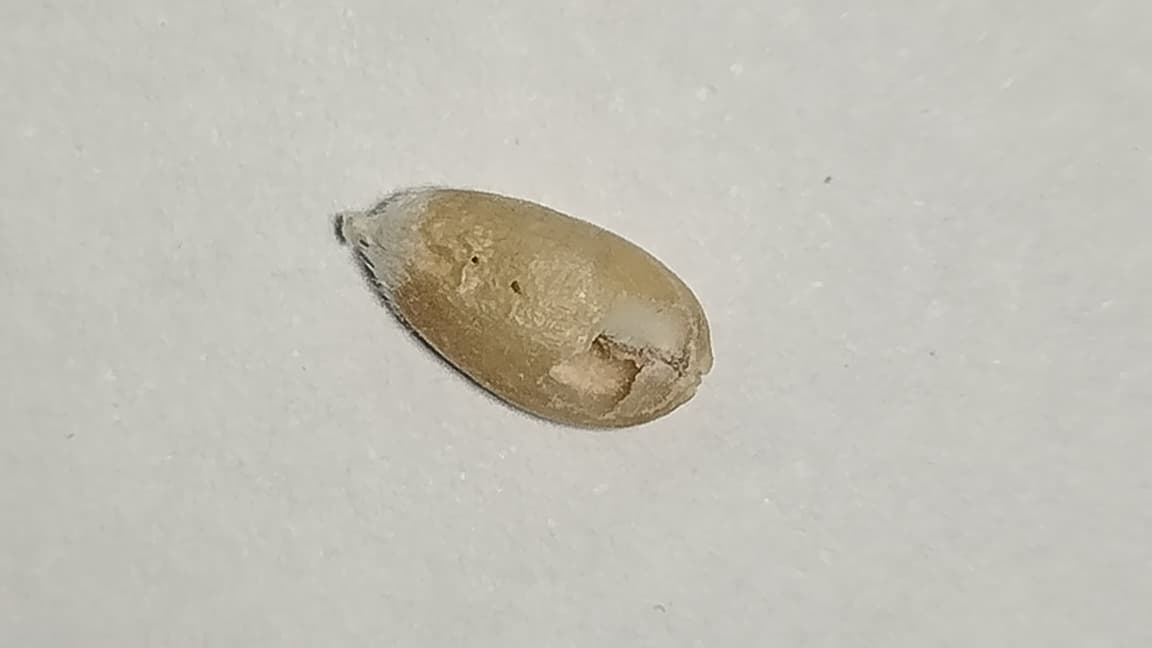damage: (341, 186, 710, 427)
insectdamage: (544, 279, 721, 423)
